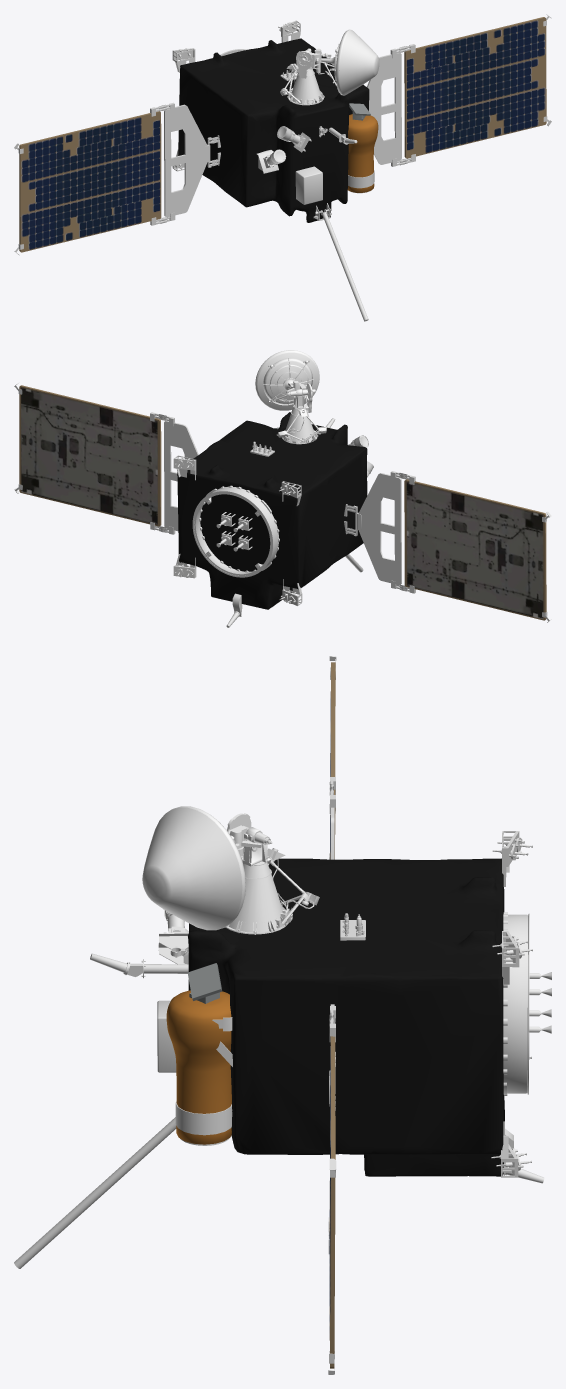
The model's file is danuri.glb.
3 renders of one model, top to bottom at view 1: azimuth 30°, elevation 25°; view 2: azimuth 150°, elevation 25°; view 3: azimuth 270°, elevation 25°, orthographic. The views are drawn at different scales.
Parts seen in each view (by area): view 1: array_01, bus, instruments.001, instruments.002; view 2: array_01, bus, instruments.001, instruments.002; view 3: bus, instruments.001, array_01, instruments.002.
Boxes of the visible parts, x1,y1,x2,y2 form: array_01: (14, 14, 551, 255); bus: (178, 38, 369, 222); instruments.001: (172, 20, 379, 321); instruments.002: (280, 29, 350, 105); array_01: (14, 382, 551, 627); bus: (177, 412, 367, 609); instruments.001: (173, 427, 373, 616); instruments.002: (255, 350, 326, 444); bus: (188, 858, 504, 1176); instruments.001: (14, 807, 551, 1268); array_01: (90, 656, 544, 1374); instruments.002: (163, 806, 319, 934).
Size of the model in its own units: 6.3 by 2.79 by 2.81.
9 materials, 2 textured.
